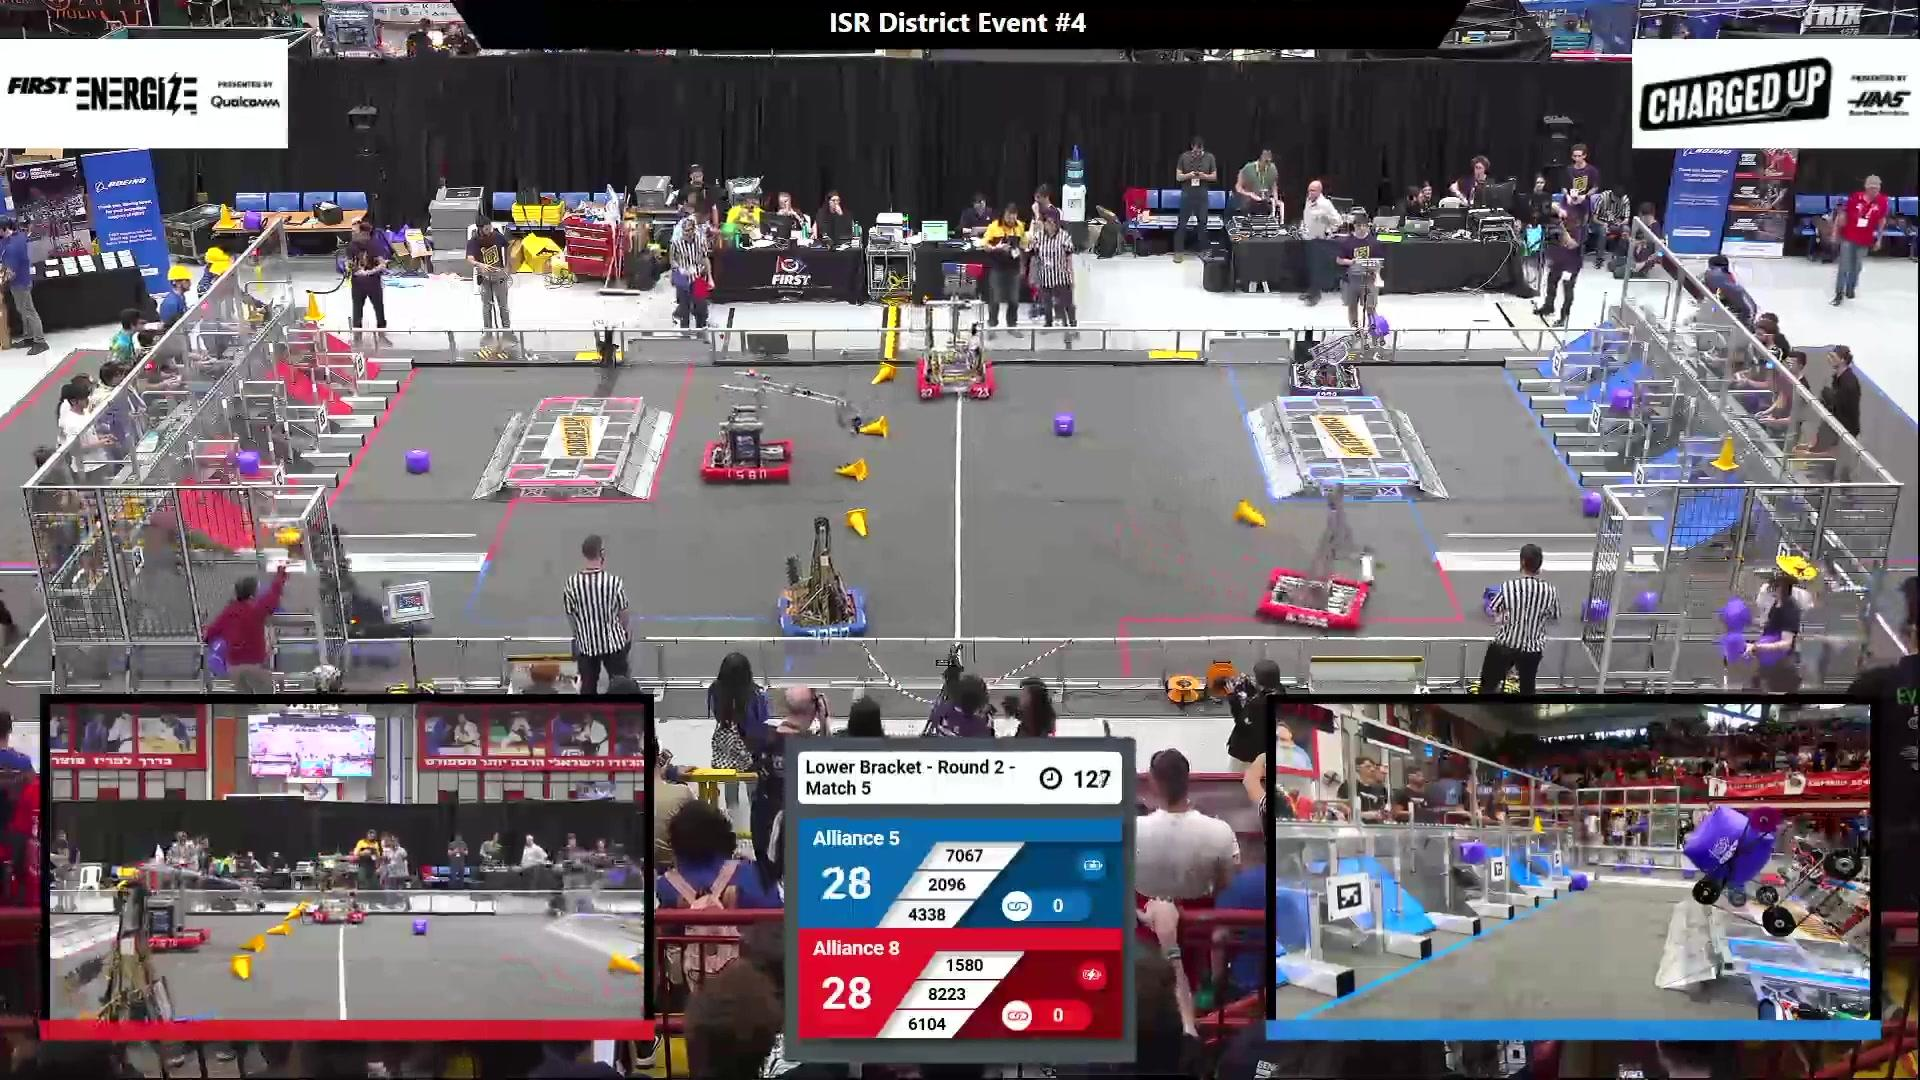robot: (1683, 804, 1871, 1019), (274, 526, 431, 669), (1253, 479, 1377, 634), (699, 368, 864, 484), (53, 931, 219, 1022), (116, 868, 262, 952), (778, 513, 868, 647), (1288, 313, 1395, 401), (914, 290, 996, 398), (311, 852, 365, 926)
